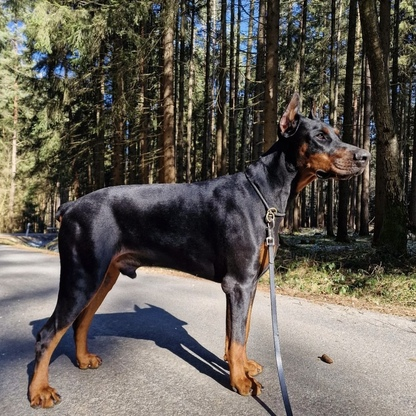doberman: (21, 90, 374, 409)
